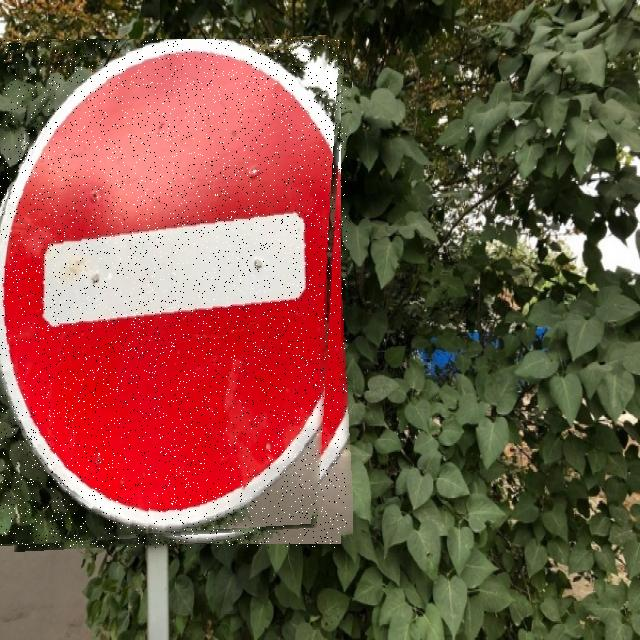no entry: (0, 39, 347, 548)
